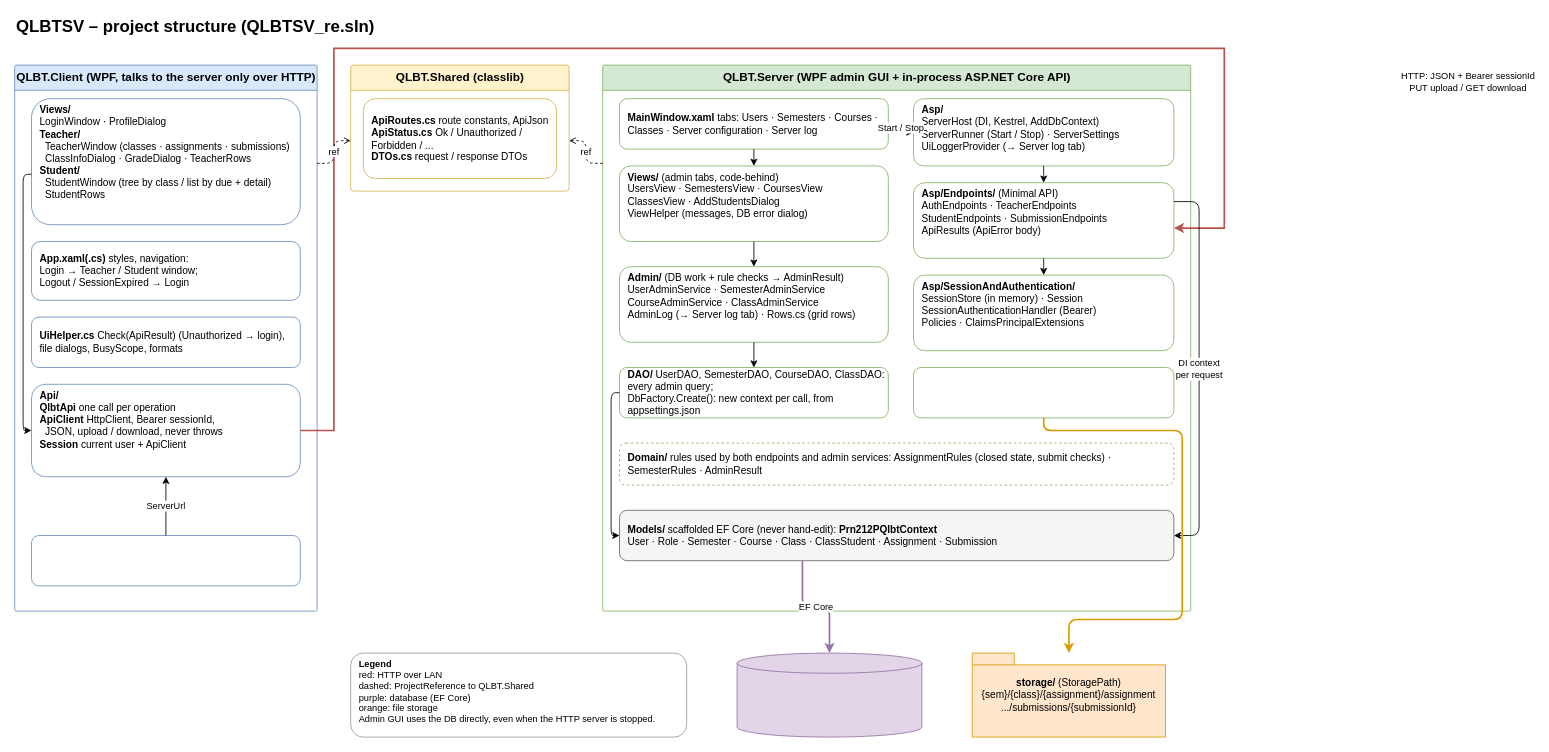
This 1549x752 diagram has some shape labels left out. The centre of each missing label's shape, as x and y in pixels:
ClientSettings.cs + appsettings.json { "ServerUrl": ... } (no UI to change it): pixel 165 560
Files/ FileStorage (id-based paths) FileReceiver (streamed upload → .tmp): pixel 1043 392
SQL Server PRN212_P_QLBT (db/QLBT.sql, QLBT_test_ds.sql): pixel 829 694
